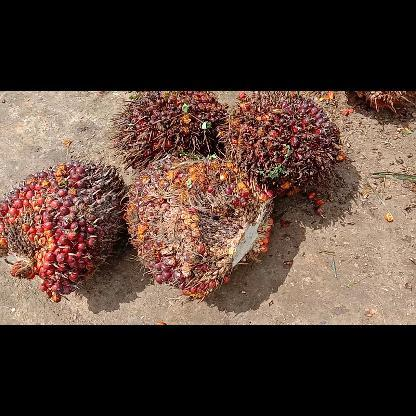TBS masak: (122, 154, 272, 298), (0, 160, 124, 302), (218, 90, 344, 194), (110, 90, 226, 172)
